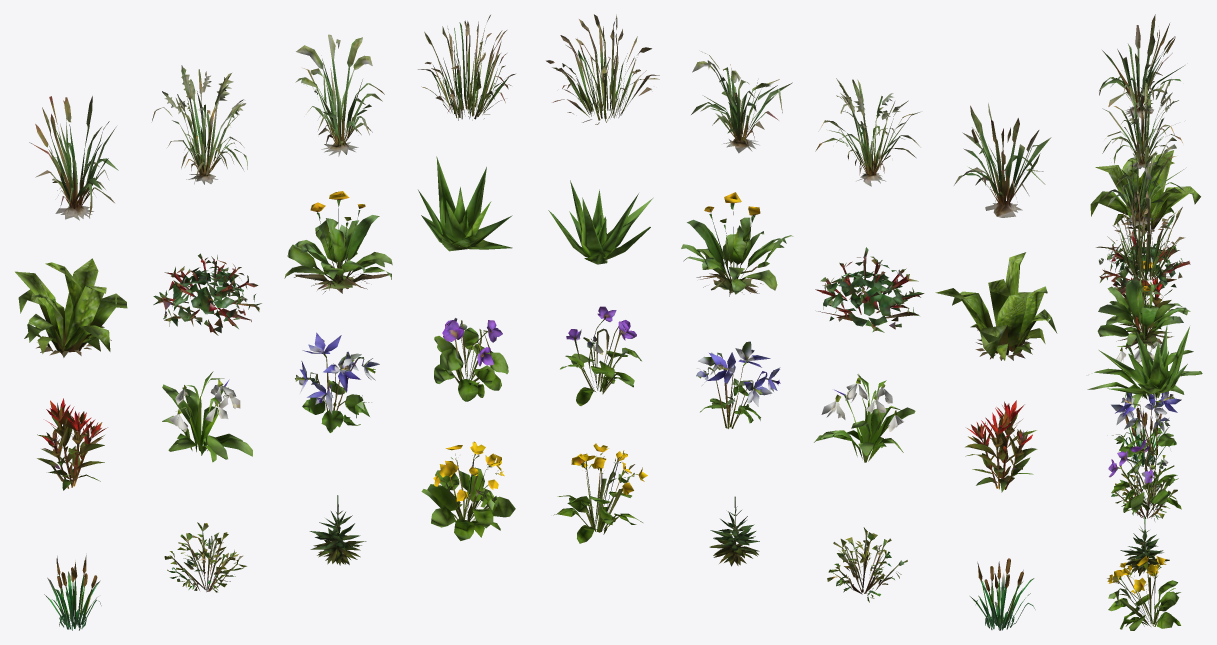
Rendered from groundPlants.glb.
3 renders of one model, left to right at view 1: azimuth 30°, elevation 25°; view 2: azimuth 150°, elevation 25°; view 3: azimuth 270°, elevation 25°, orthographic. The views are drawn at different scales.
Parts seen in each view (by area): view 1: groundPlants; view 2: groundPlants; view 3: groundPlants.
Boxes of the visible parts, left/top/right/bottom form: groundPlants: left=15, top=15, right=515, bottom=630; groundPlants: left=546, top=14, right=1057, bottom=630; groundPlants: left=1087, top=14, right=1202, bottom=630.
Bounding box in the file's own units: 1.49 × 1.51 × 0.3616.
Materials: 1 (1 with a texture image).
